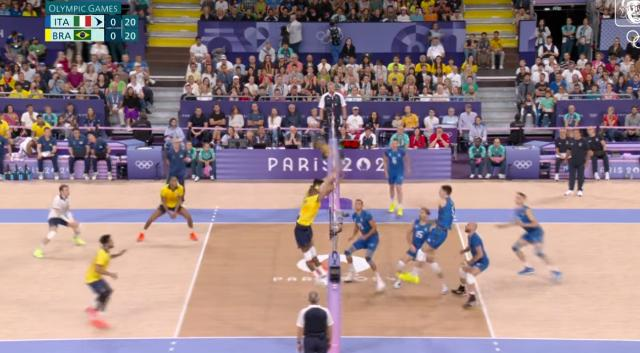Levantador: (82, 234, 126, 330), (383, 137, 411, 217)
Libero: (32, 184, 86, 260)
bola: (319, 140, 335, 162)
